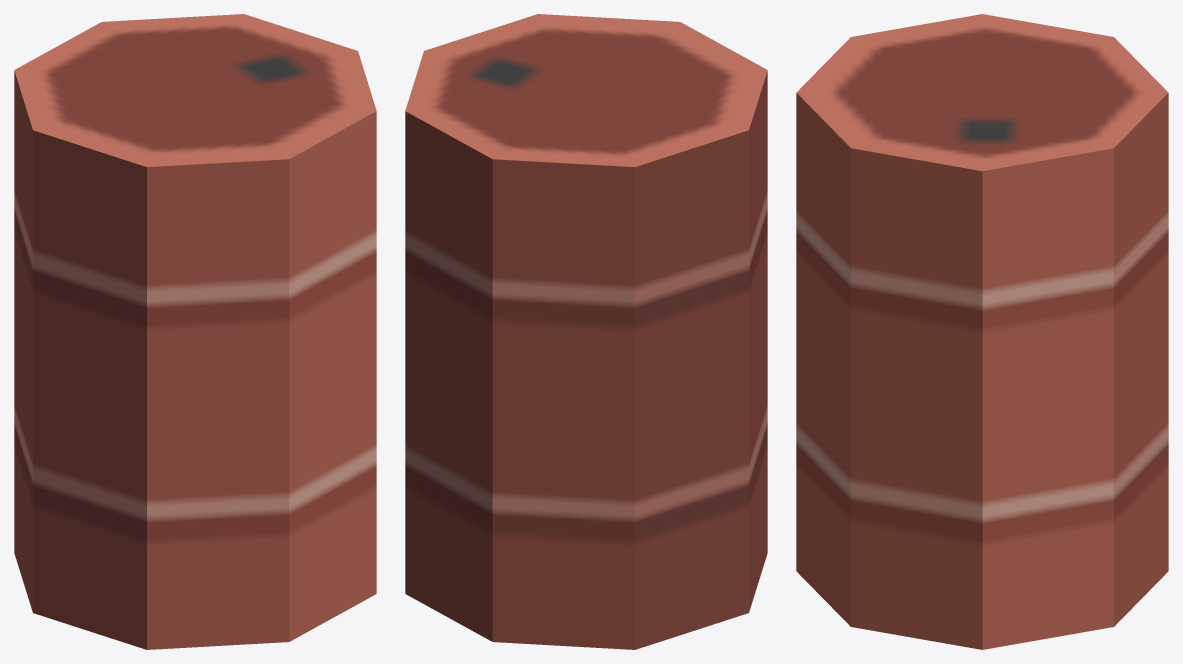
File: SM_Prop_Barrel_02.fbx
The picture shows the model from 3 angles, left to right: view 1: azimuth 30°, elevation 25°; view 2: azimuth 150°, elevation 25°; view 3: azimuth 270°, elevation 25°; orthographic projection.
Visible parts, largest first — view 1: SM_Prop_Barrel_02; view 2: SM_Prop_Barrel_02; view 3: SM_Prop_Barrel_02.
Boxes of the visible parts, x1,y1,x2,y2 form: SM_Prop_Barrel_02: (14, 14, 376, 649); SM_Prop_Barrel_02: (405, 14, 767, 649); SM_Prop_Barrel_02: (796, 14, 1168, 649).
Bounding box in the file's own units: 0.9465 × 1.34 × 0.9465.
